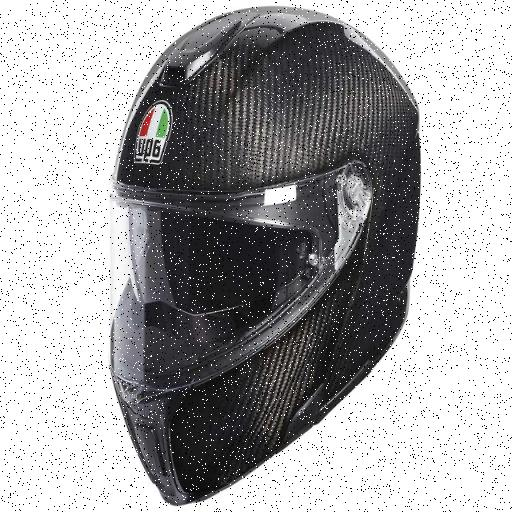Helmet: (111, 8, 419, 503)
